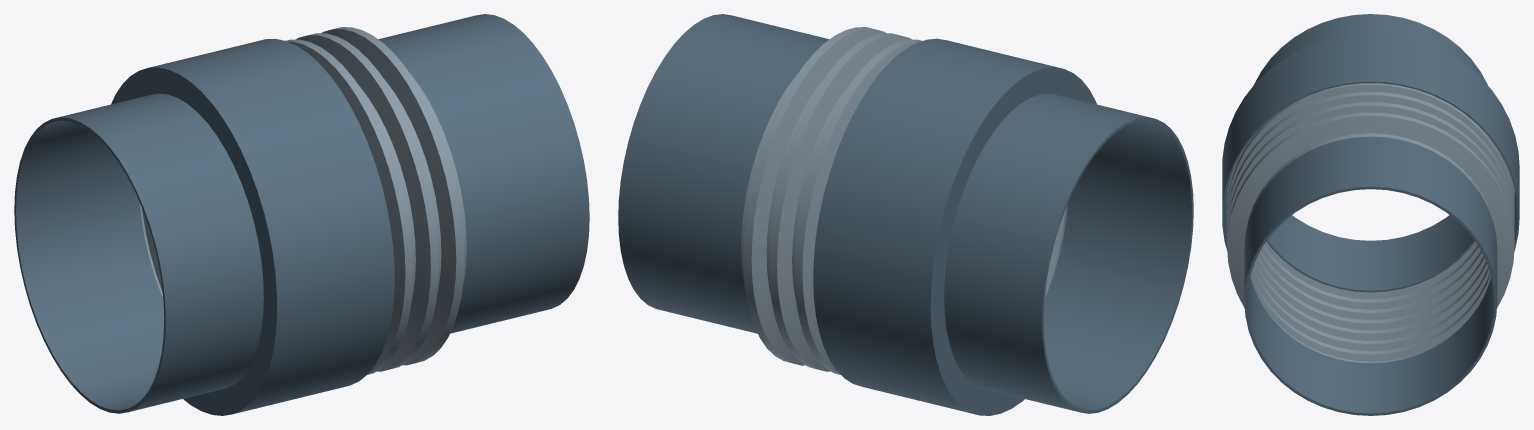
The model's file is silf-dn700-L1162-D720-k-o910.glb.
3 renders of one model, left to right at view 1: azimuth 30°, elevation 25°; view 2: azimuth 150°, elevation 25°; view 3: azimuth 270°, elevation 25°, orthographic. The views are drawn at different scales.
Visible parts, largest first — view 1: patrubok_1, osnovanie_kozhuh_1, patrubok_2, prokladka_silfon_1; view 2: patrubok_1, osnovanie_kozhuh_1, patrubok_2, prokladka_silfon_1; view 3: prokladka_silfon_1, patrubok_2, osnovanie_kozhuh_1, patrubok_1.
Part boxes in pixels (x1,y1,x2,y2): patrubok_1: (14,93,263,413); osnovanie_kozhuh_1: (111,39,394,415); patrubok_2: (378,14,589,333); prokladka_silfon_1: (140,27,466,374); patrubok_1: (944,93,1193,413); osnovanie_kozhuh_1: (813,38,1096,415); patrubok_2: (618,14,829,333); prokladka_silfon_1: (741,27,1067,374); prokladka_silfon_1: (1227,83,1514,363); patrubok_2: (1244,136,1497,415); osnovanie_kozhuh_1: (1222,33,1519,251); patrubok_1: (1254,14,1487,292).
Size of the model in its own units: 1162 by 847 by 846.
